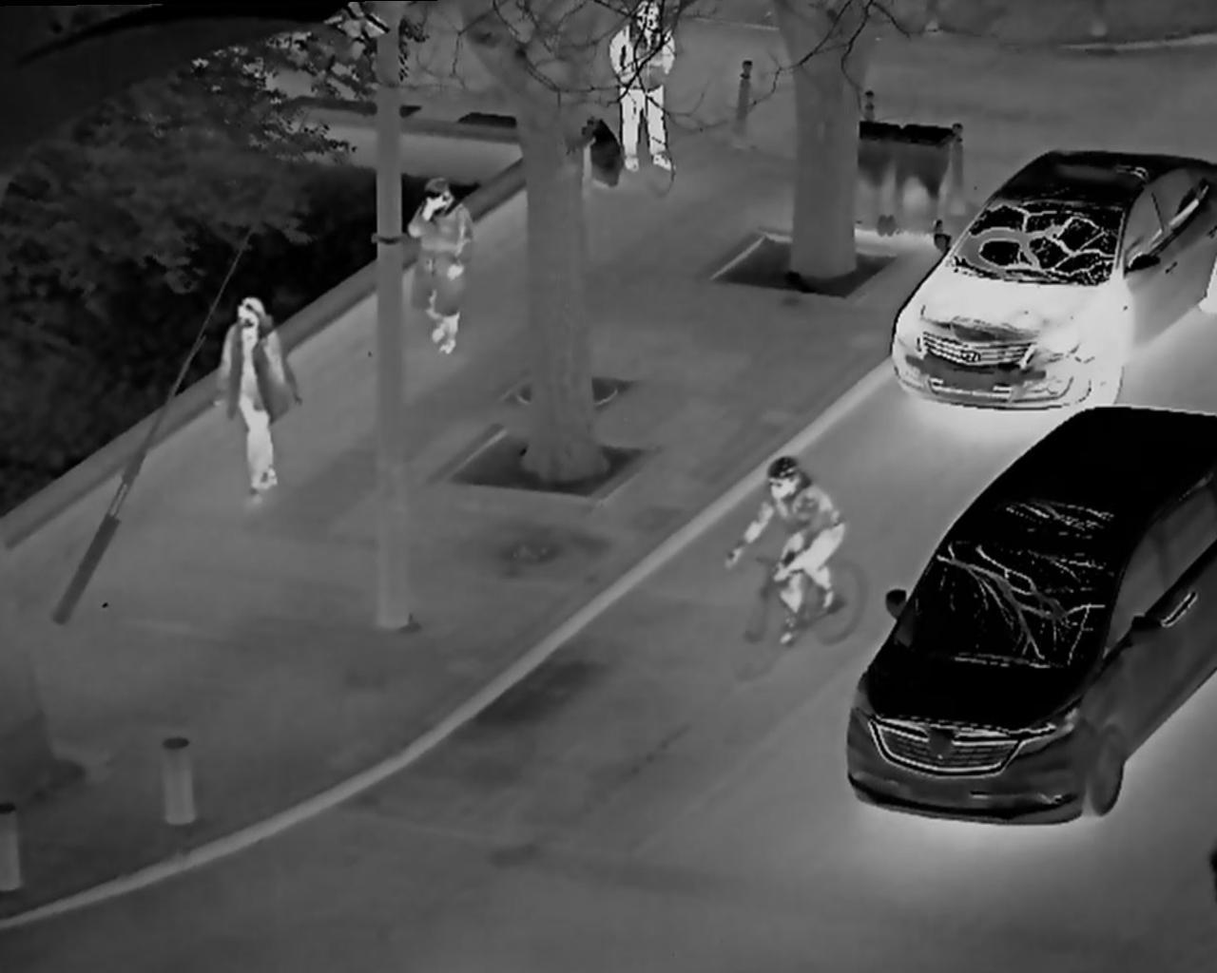person: (731, 448, 853, 658), (205, 285, 314, 515), (604, 2, 692, 194), (409, 170, 472, 358)
